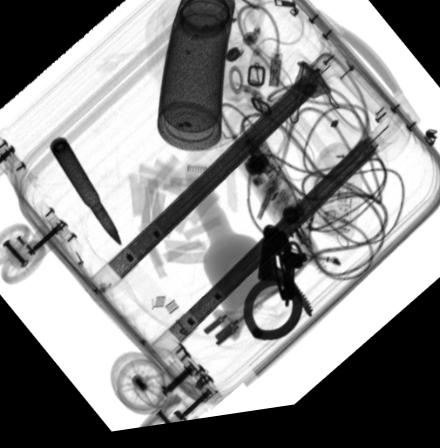Bullet: (49, 139, 120, 250)
HandCuffs: (242, 230, 313, 350)
